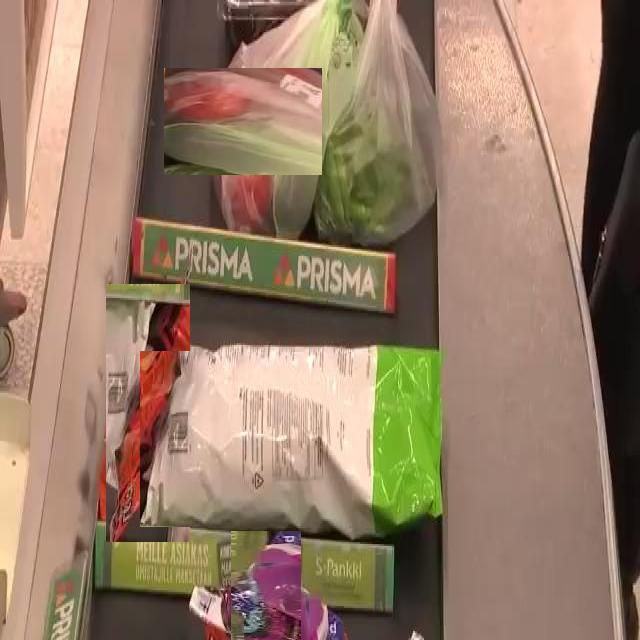food-box: (140, 351, 444, 527), (105, 283, 190, 542), (211, 550, 321, 640)
vegetable: (191, 41, 352, 202), (322, 17, 428, 232)
